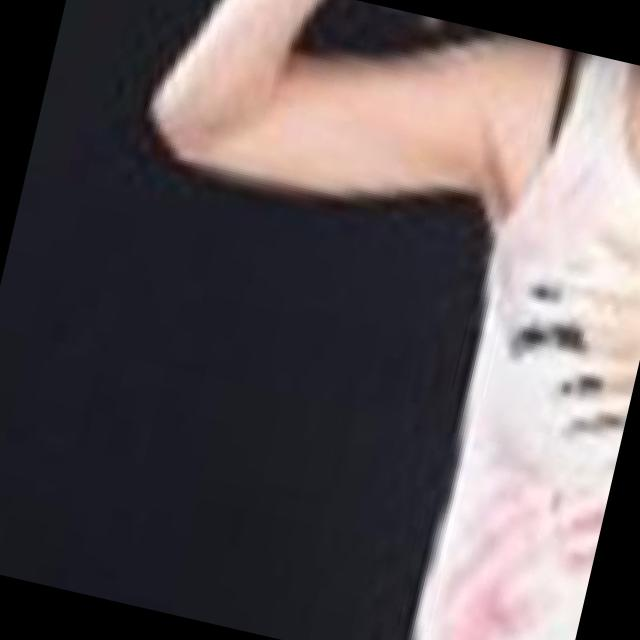Guns: (348, 0, 623, 71)
